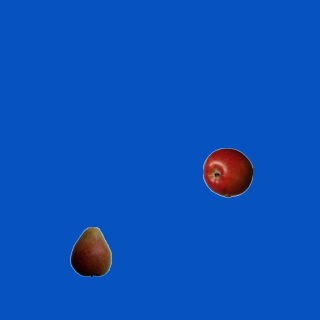Apple Braeburn: (202, 147, 252, 197)
Pear Forelle: (65, 226, 115, 276)
